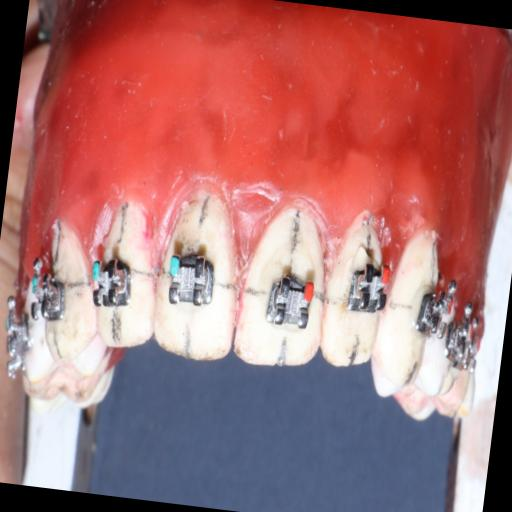correct_brace: (160, 242, 223, 315)
incorrect_brace: (262, 270, 316, 333)
